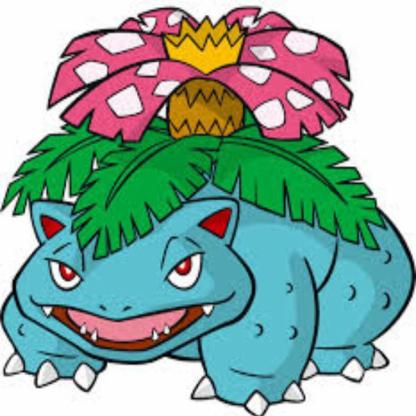Venusaur: (11, 17, 416, 412)
